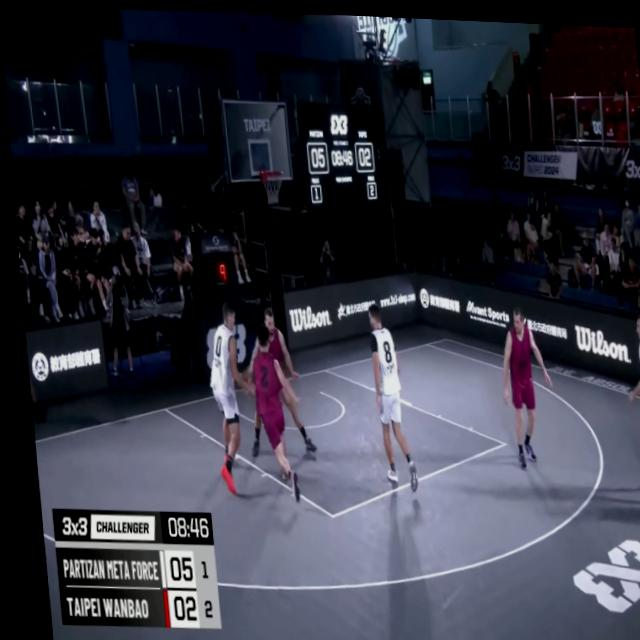hoop: (256, 166, 283, 202)
player: (197, 296, 257, 494), (233, 302, 308, 456), (237, 319, 300, 500), (358, 298, 413, 492), (490, 302, 548, 468), (613, 305, 640, 501)
